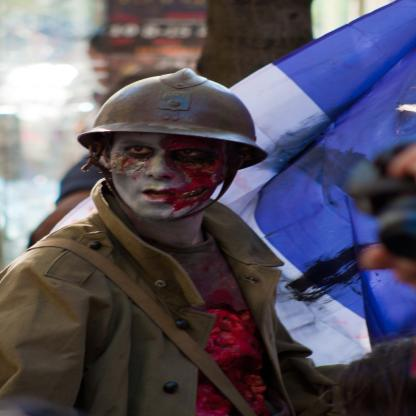Helmet: (77, 68, 260, 215)
